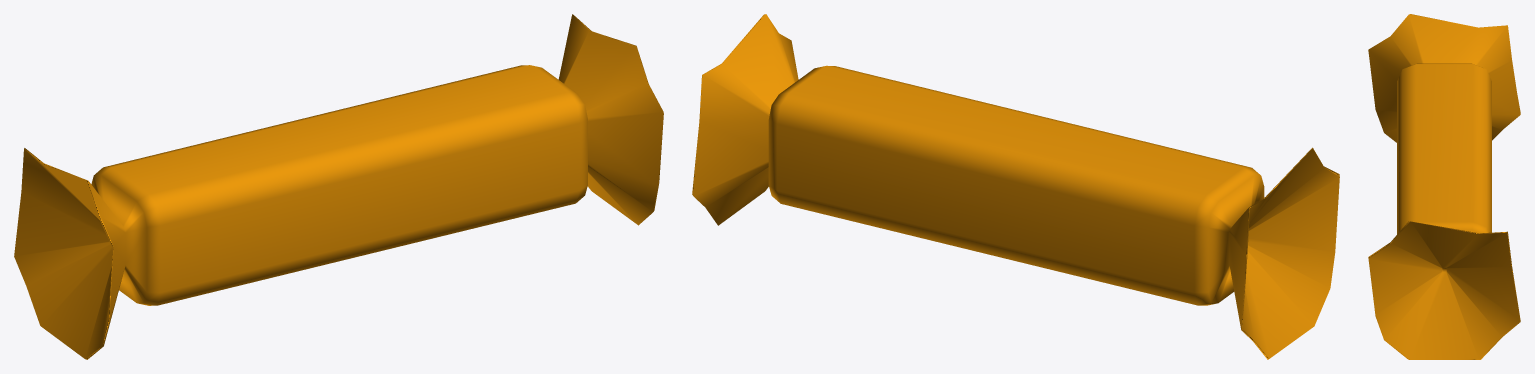
File: long_candy.fbx
The picture shows the model from 3 angles, left to right: view 1: azimuth 30°, elevation 25°; view 2: azimuth 150°, elevation 25°; view 3: azimuth 270°, elevation 25°; orthographic projection. The views are drawn at different scales.
Visible parts, largest first — view 1: pCube1; view 2: pCube1; view 3: pCube1.
Part boxes in pixels (x1=…): pCube1: x1=14, y1=14, x2=663, y2=359; pCube1: x1=692, y1=14, x2=1339, y2=359; pCube1: x1=1368, y1=14, x2=1520, y2=359.
Bounding box in the file's own units: 5.19 × 1.6 × 1.6.
